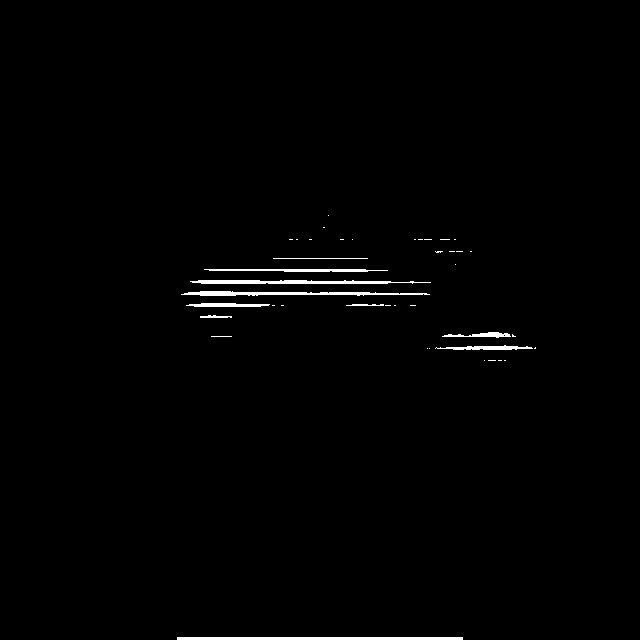03_intrusion: (185, 239, 633, 361)
